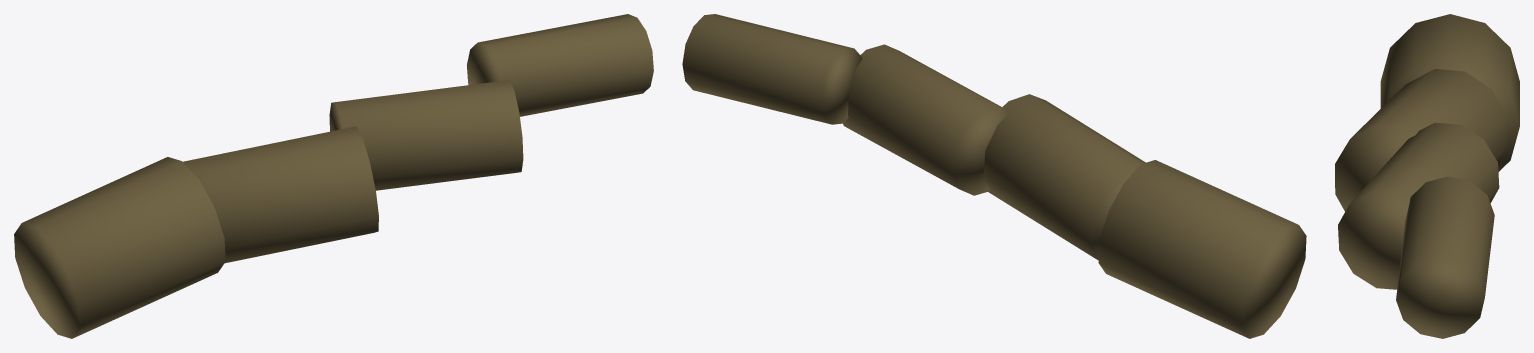
The model's file is tangled_root.glb.
The picture shows the model from 3 angles, left to right: view 1: azimuth 30°, elevation 25°; view 2: azimuth 150°, elevation 25°; view 3: azimuth 270°, elevation 25°; orthographic projection. The views are drawn at different scales.
Visible parts, largest first — view 1: root_segment (×4); view 2: root_segment (×4); view 3: root_segment (×4).
Boxes of the visible parts, x1,y1,x2,y2 form: root_segment (×4): (14, 14, 653, 338); root_segment (×4): (682, 14, 1306, 338); root_segment (×4): (1335, 14, 1519, 338).
Size of the model in its own units: 1.63 by 0.4829 by 0.3981.
